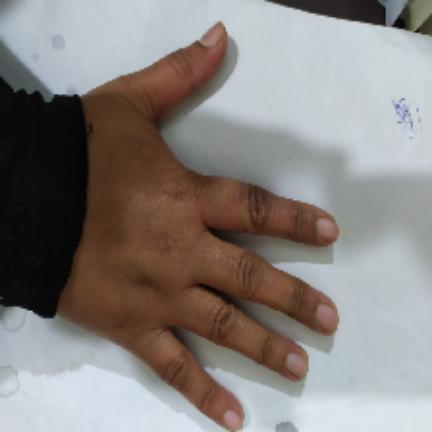Nail: (198, 22, 226, 47), (316, 305, 338, 332), (286, 353, 308, 379), (317, 217, 339, 238), (224, 410, 243, 430)
